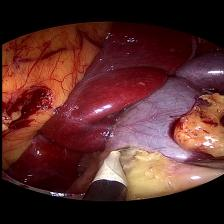Hook: (86, 144, 134, 190)
